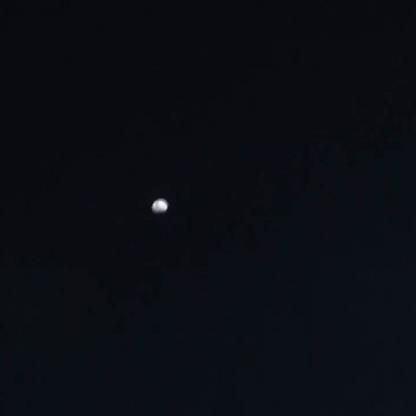ball: (144, 194, 173, 220)
